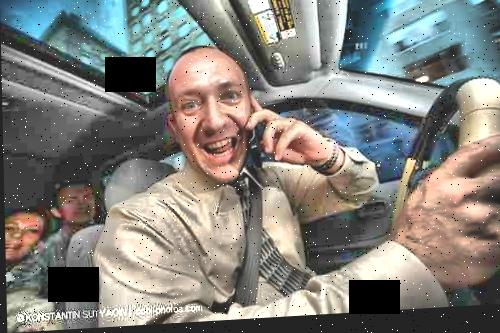seatbelt: (205, 155, 274, 312)
